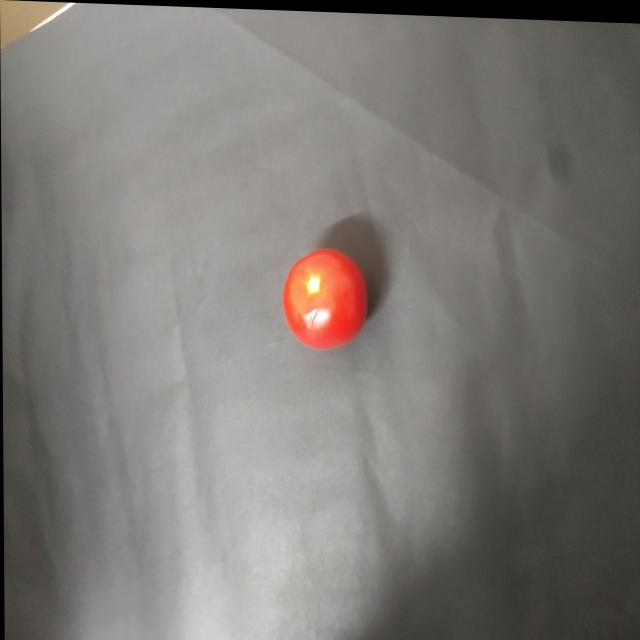kirmizi: (275, 238, 381, 365)
